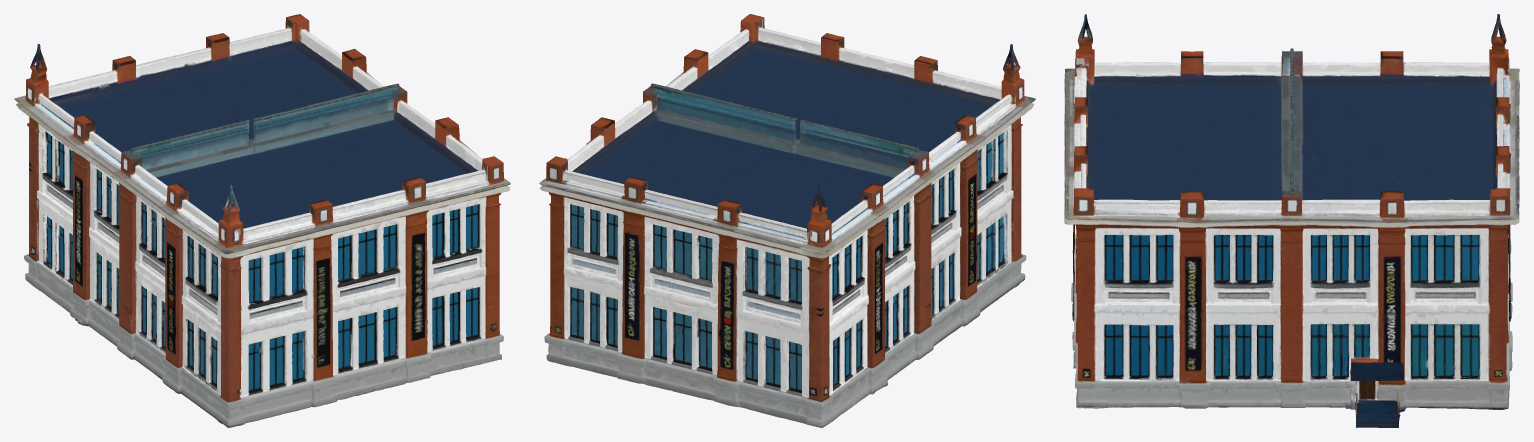
File: NewPolo_draco.glb
3 renders of one model, left to right at view 1: azimuth 30°, elevation 25°; view 2: azimuth 150°, elevation 25°; view 3: azimuth 270°, elevation 25°, orthographic. The views are drawn at different scales.
Bounding box in the file's own units: 1.76 × 1.24 × 2.
1 material, 1 textured.
